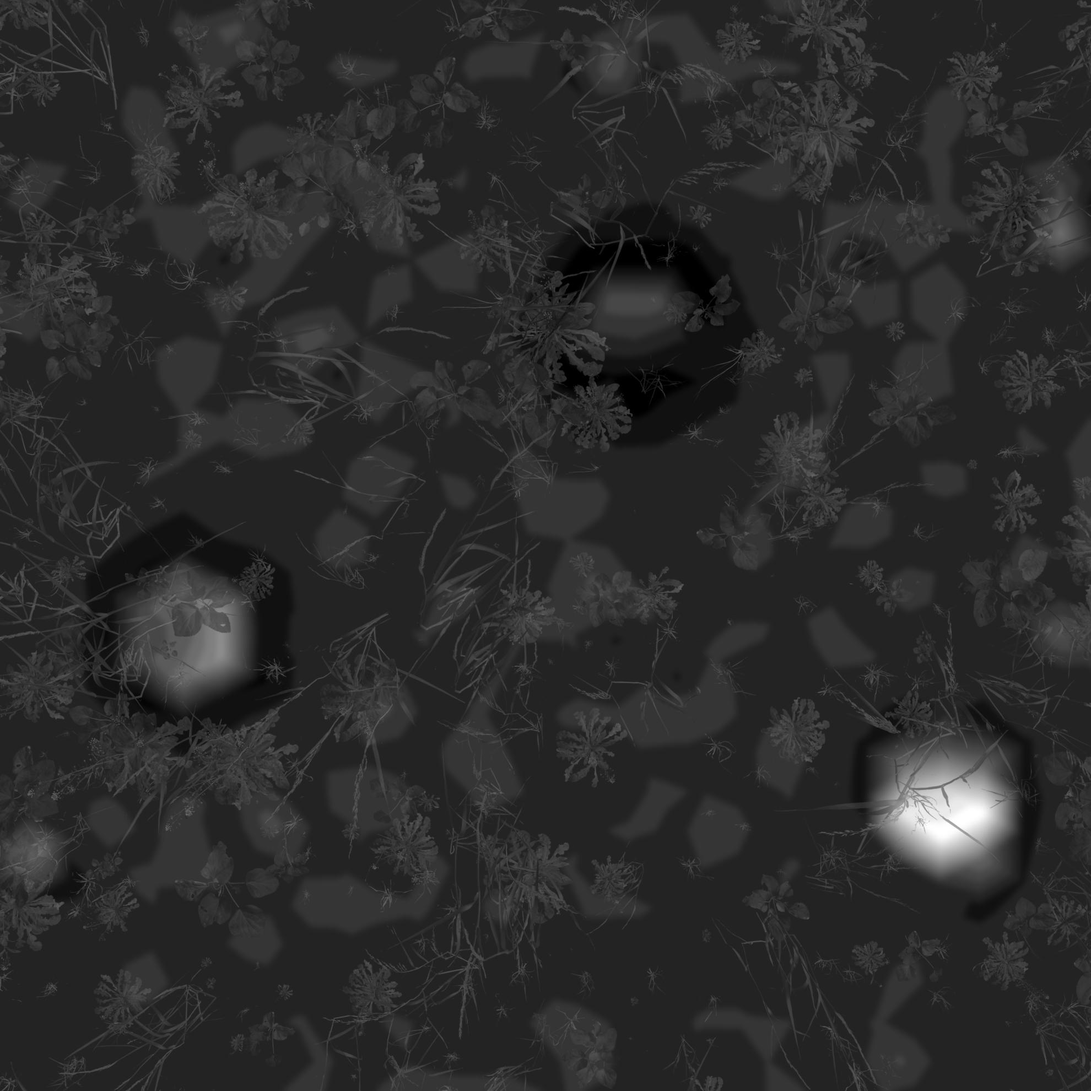landmine: (107, 543, 272, 718), (864, 718, 1028, 875), (564, 244, 700, 377)
